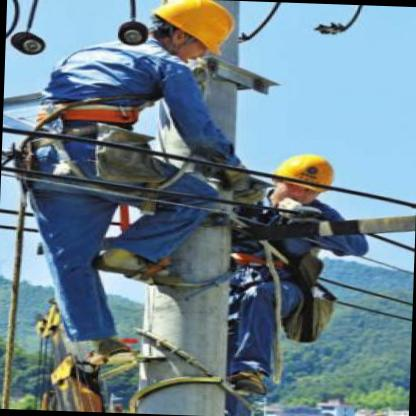helmet: (144, 1, 239, 66), (267, 149, 345, 211)
